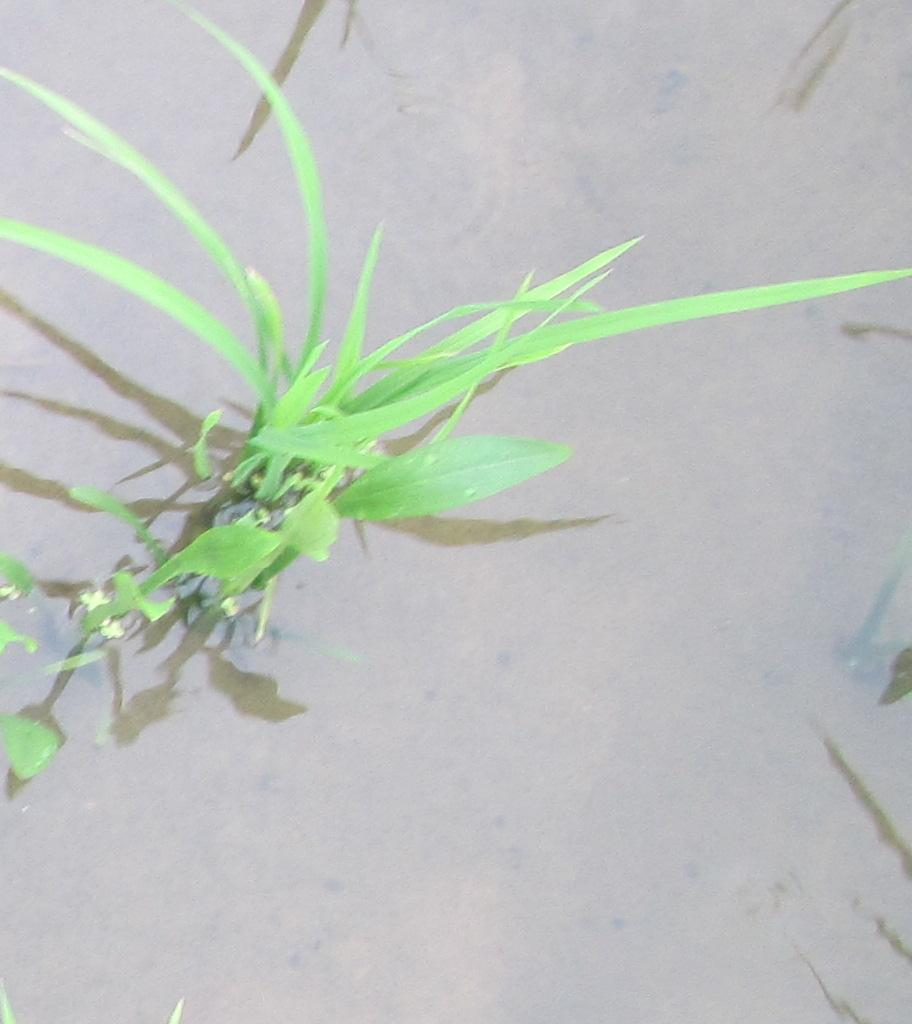Weed: (150, 447, 566, 597)
